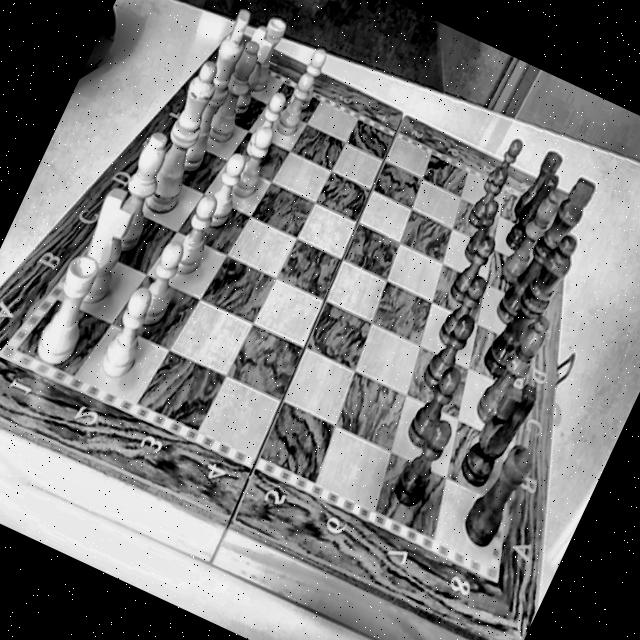black-pawn: (376, 408, 464, 534)
white-pawn: (84, 281, 161, 401)
